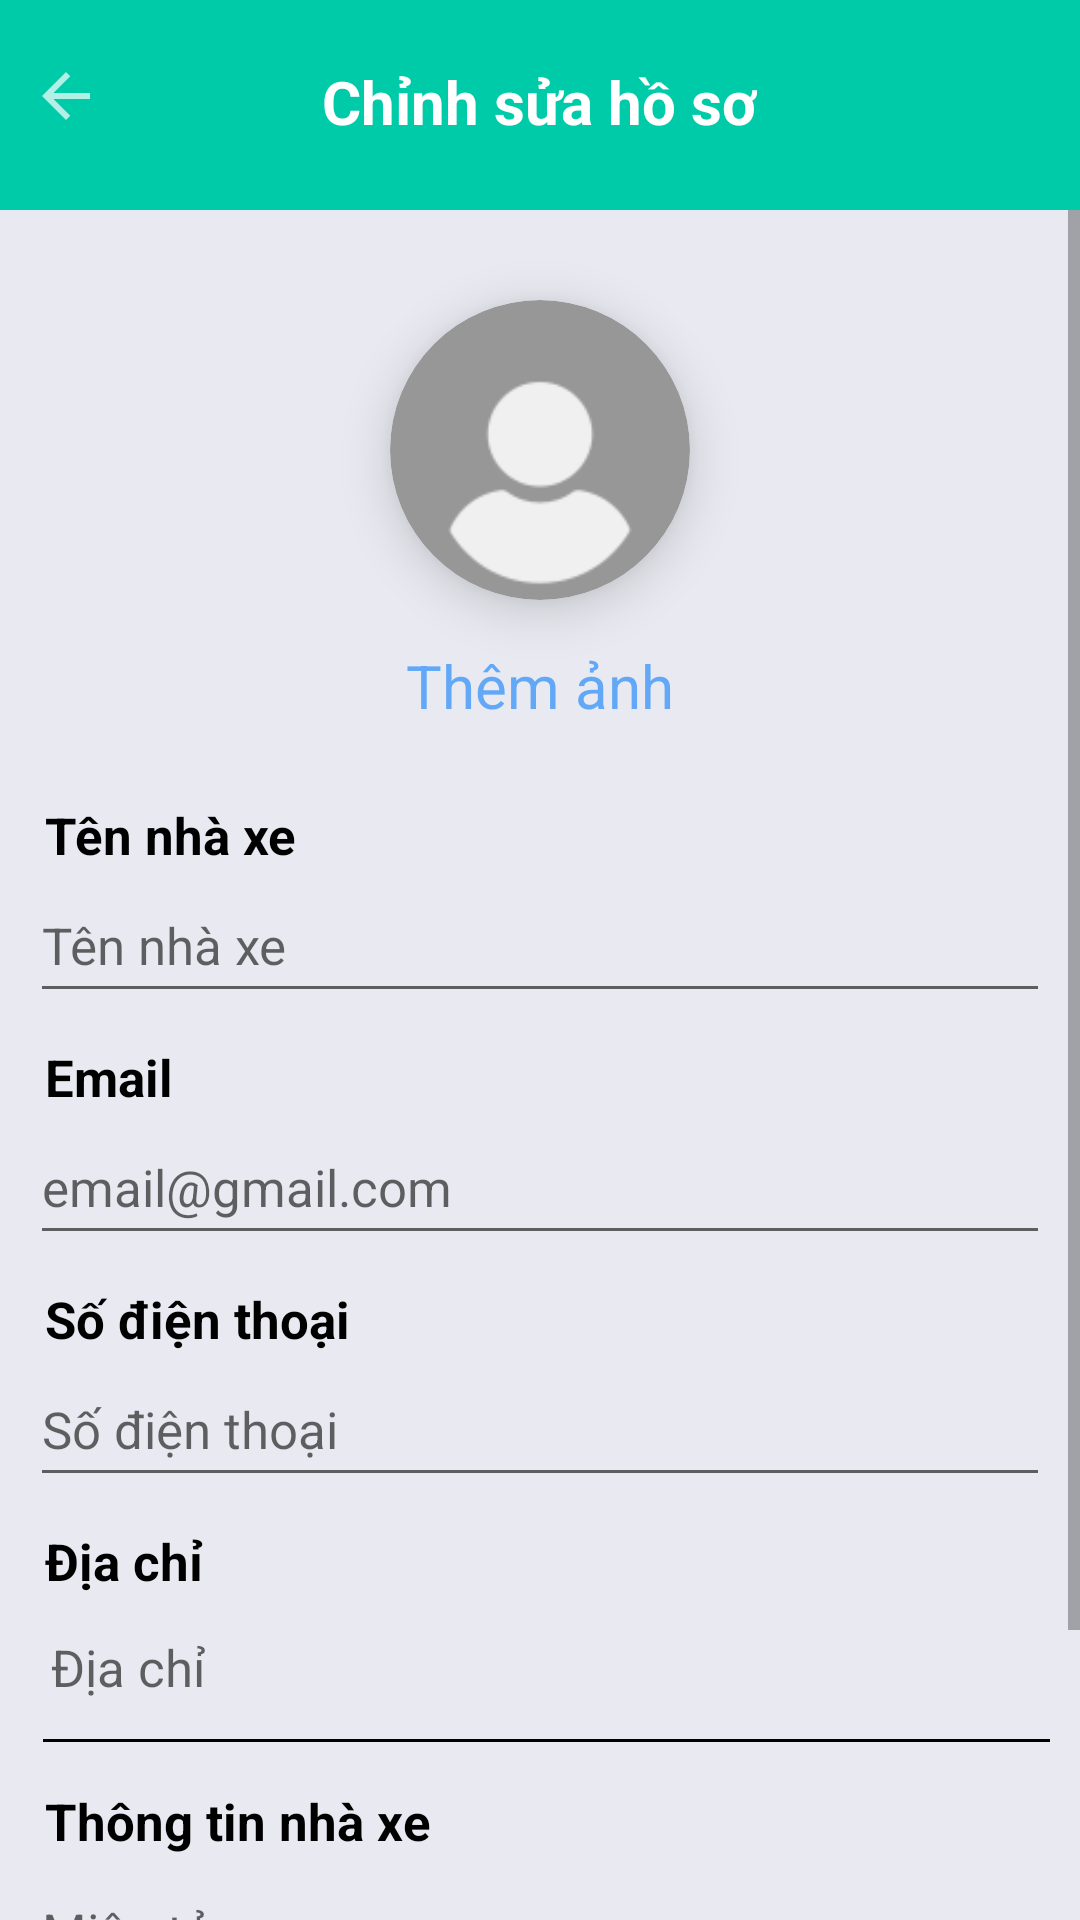

Icon bounding boxes for this 1080 × 1920 phone screenshot, format {"x1": x1, "y1": y1, "x2": x2, "y2": y2}:
arrow back: {"x1": 42, "y1": 72, "x2": 90, "y2": 120}
profile: {"x1": 390, "y1": 300, "x2": 690, "y2": 600}
